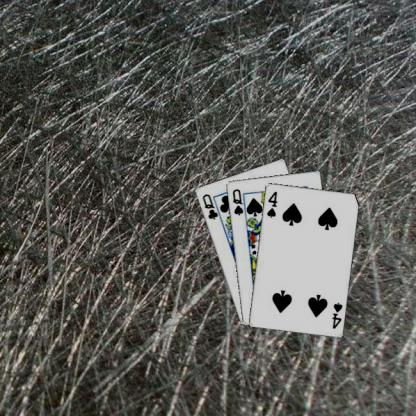4S: (329, 300, 344, 330), (264, 188, 278, 219)
QC: (199, 191, 219, 221)
QS: (229, 186, 244, 216)
